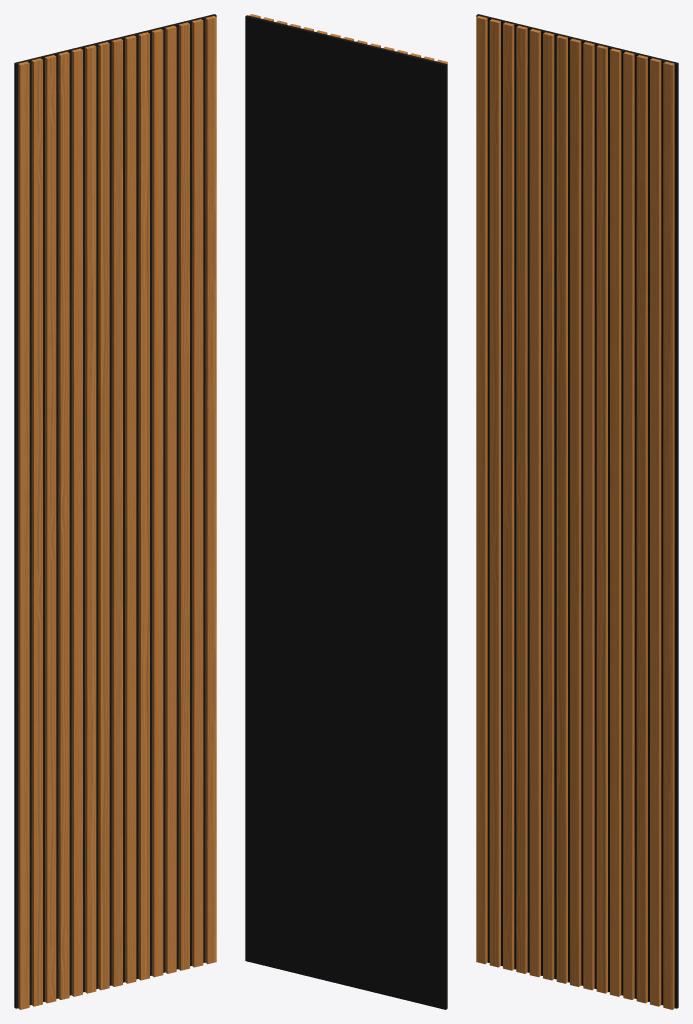
The model's file is panel-classic-honey-oak.glb.
3 renders of one model, left to right at view 1: azimuth 30°, elevation 25°; view 2: azimuth 150°, elevation 25°; view 3: azimuth 330°, elevation 25°, orthographic.
Visible parts, largest first — view 1: Lamellen-Wandpaneel classic honey-oak; view 2: Lamellen-Wandpaneel classic honey-oak; view 3: Lamellen-Wandpaneel classic honey-oak.
Part boxes in pixels (box(x1,y1,x2,y2)): Lamellen-Wandpaneel classic honey-oak: box(14, 14, 216, 1009); Lamellen-Wandpaneel classic honey-oak: box(245, 14, 447, 1009); Lamellen-Wandpaneel classic honey-oak: box(476, 14, 678, 1009).
Size of the model in its own units: 0.6 by 2.7 by 0.021.
Materials: 2 (1 with a texture image).
